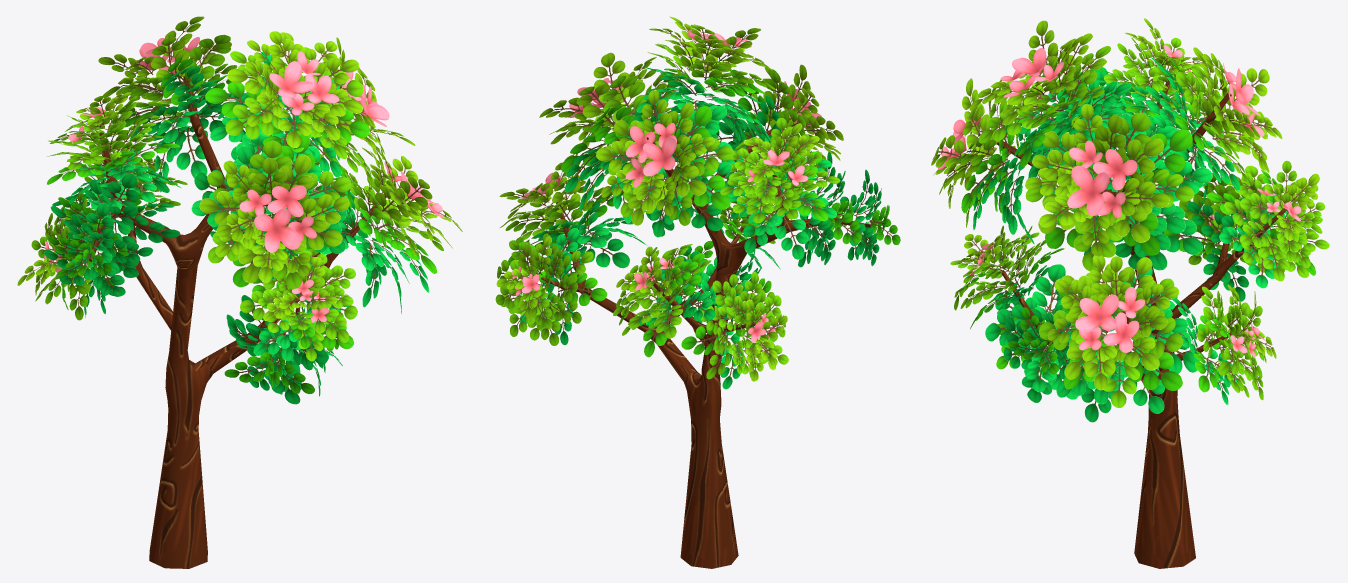
Rendered from Tree_3.glb.
The picture shows the model from 3 angles, left to right: view 1: azimuth 30°, elevation 25°; view 2: azimuth 150°, elevation 25°; view 3: azimuth 270°, elevation 25°; orthographic projection. The views are drawn at different scales.
Visible parts, largest first — view 1: TRW2; view 2: TRW2; view 3: TRW2.
Boxes of the visible parts, <box> form: TRW2: <box>17,16,462,568</box>; TRW2: <box>495,16,900,568</box>; TRW2: <box>931,18,1329,568</box>.
Bounding box in the file's own units: 6.21 × 7.64 × 5.1.
1 material, 1 textured.
